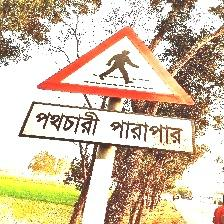Pedestrian-crossing: (23, 26, 196, 154)
